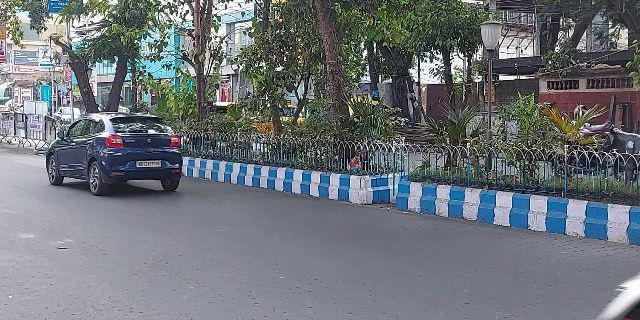Car: (43, 111, 184, 200)
